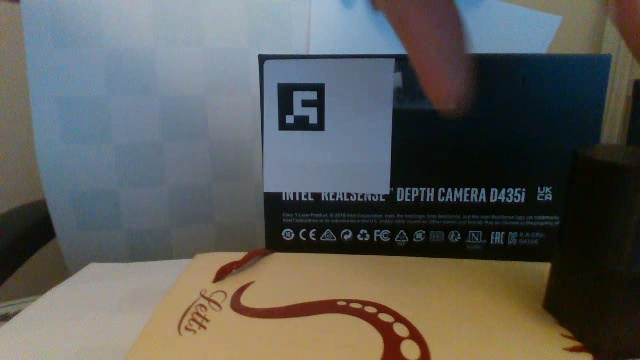cube: (539, 232, 640, 360)
cylindre: (557, 136, 640, 258)
